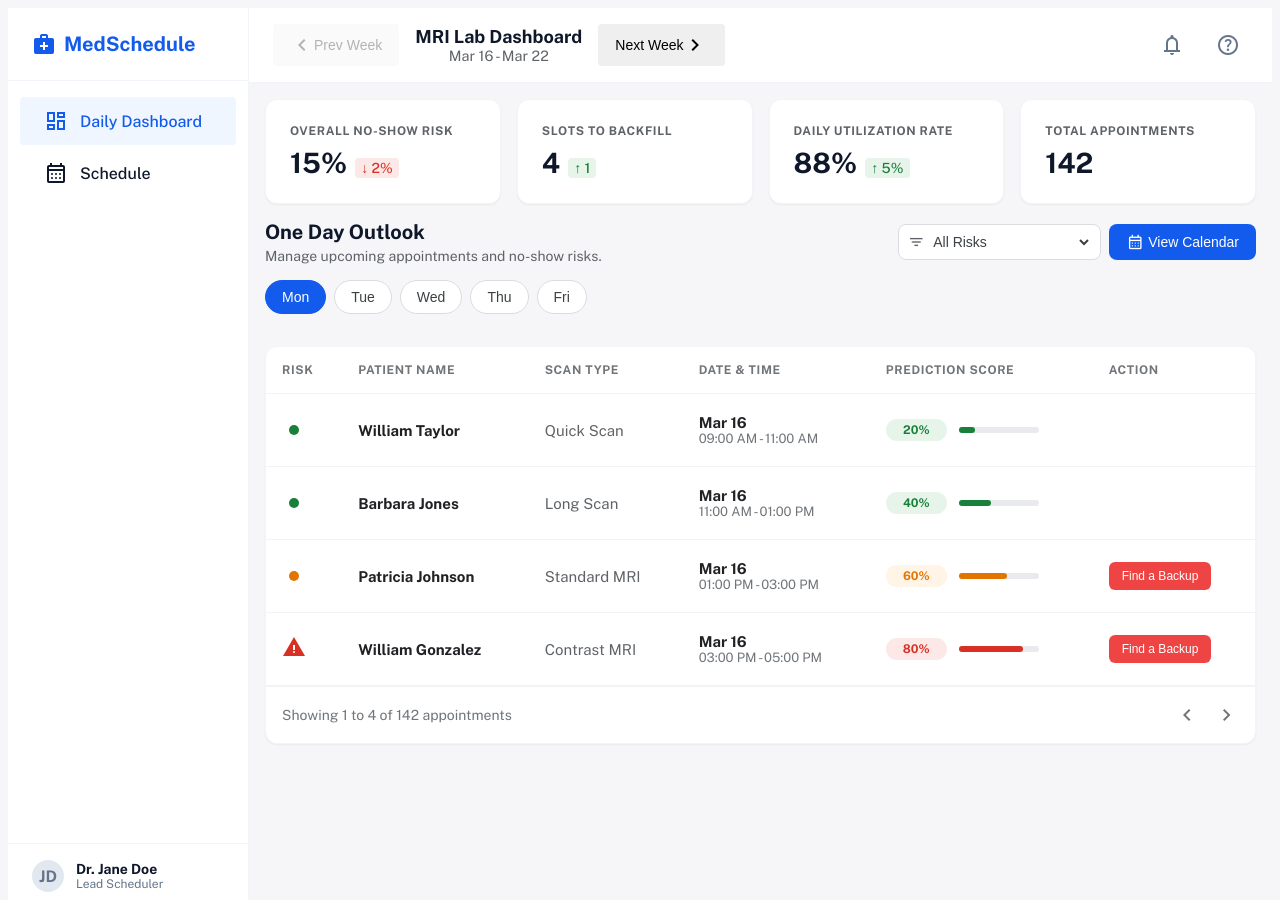
Test: opens backup selection dialog on Find a Backup click and displays suggestions
Click the first Find a Backup button
Click the button "Find a Backup" in the row of "Patricia Johnson" at (1160, 576), box [1109,562,1211,590]
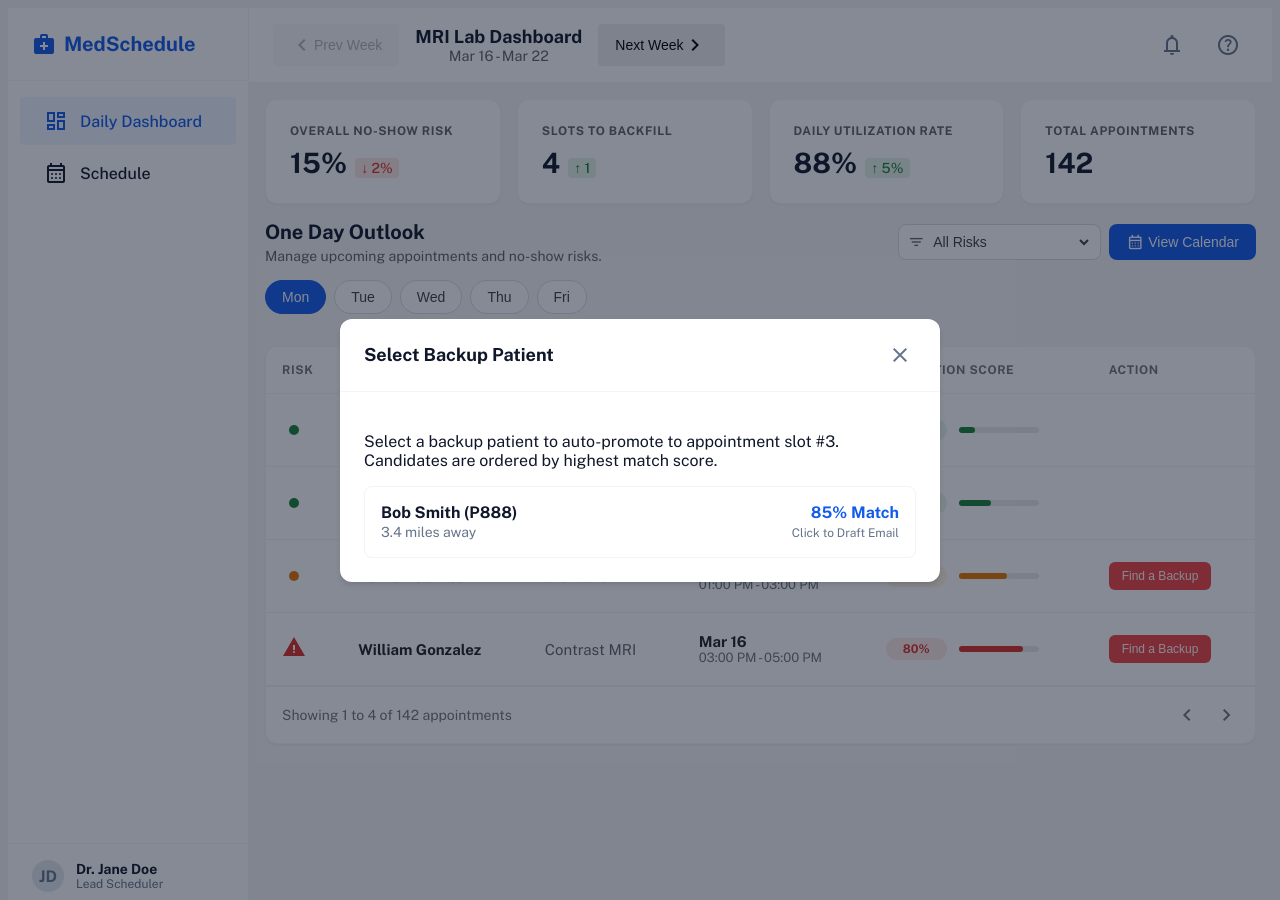
Check: the heading "Select Backup Patient" is shown, box [364,344,554,365]
Check: the text "Bob Smith (P888)" is shown, box [381,502,517,522]
Check: the text "85% Match" is shown, box [811,502,899,522]
